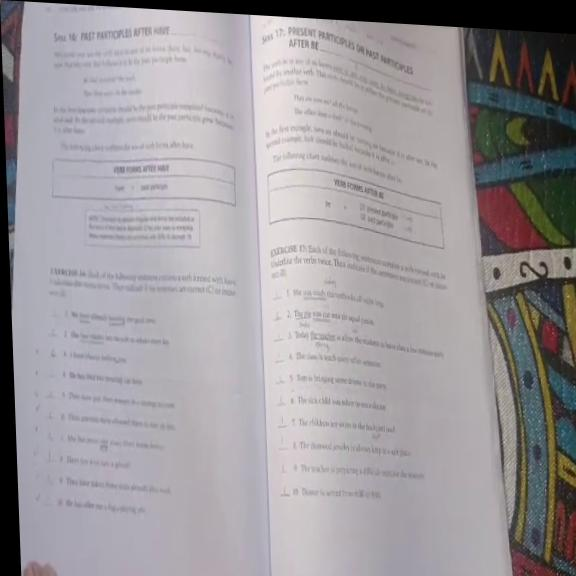Kertas: (211, 15, 484, 576), (27, 2, 290, 576)
